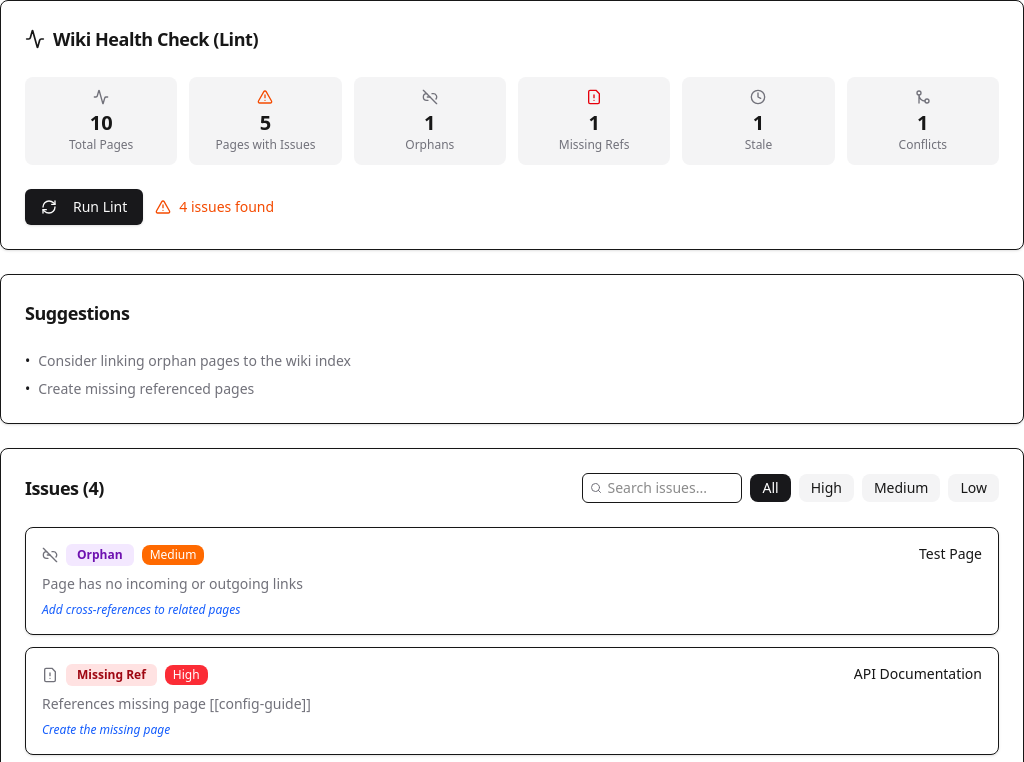
Test: WikiLint Search and Filter › filters issues by search query on page title
This screenshot has width=1024, height=762.
Expected: the text "Test Page" is shown, [919,544,982,564]
Step 1. Type "API" into the field with placeholder "Search issues..." → (662, 488), box [582,473,742,503]
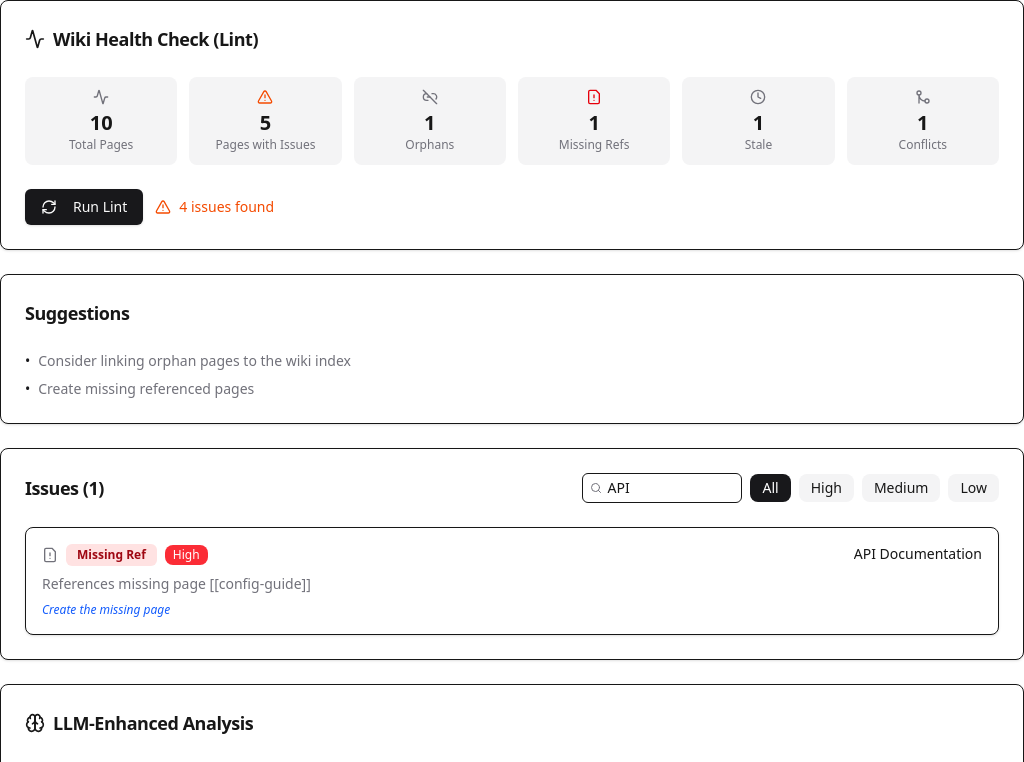
Expected: the text "API Documentation" is shown, [854,544,982,564]
Now the text "Test Page" is gone
